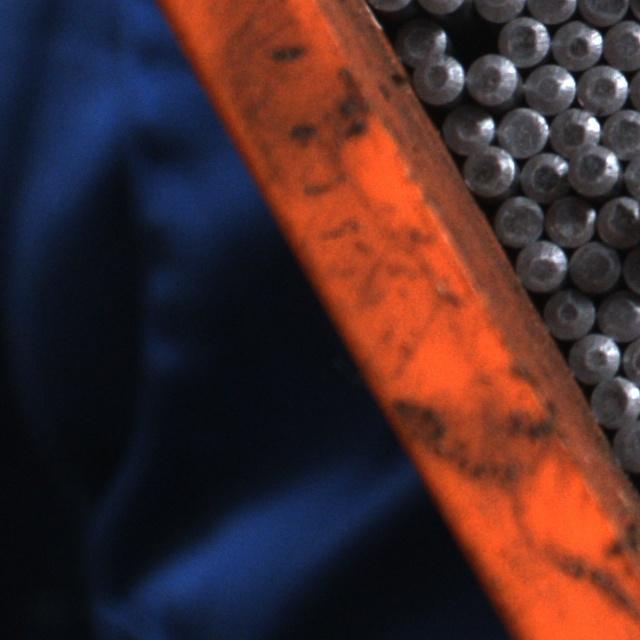tool: (465, 52, 518, 105), (587, 373, 640, 426), (492, 193, 544, 246), (463, 145, 515, 198), (569, 238, 620, 292), (524, 60, 576, 112), (412, 52, 464, 104), (440, 104, 492, 156), (515, 238, 568, 289), (550, 18, 602, 69), (543, 193, 594, 245), (547, 105, 599, 156), (498, 14, 549, 65), (497, 104, 548, 155), (543, 287, 594, 338), (568, 146, 619, 197), (577, 62, 627, 113), (517, 149, 567, 200), (568, 331, 618, 381), (396, 15, 446, 65), (594, 193, 640, 244), (597, 290, 640, 342), (601, 106, 640, 156), (603, 17, 640, 68), (614, 416, 640, 471), (576, 0, 628, 24), (524, 0, 576, 23), (473, 0, 525, 21)
